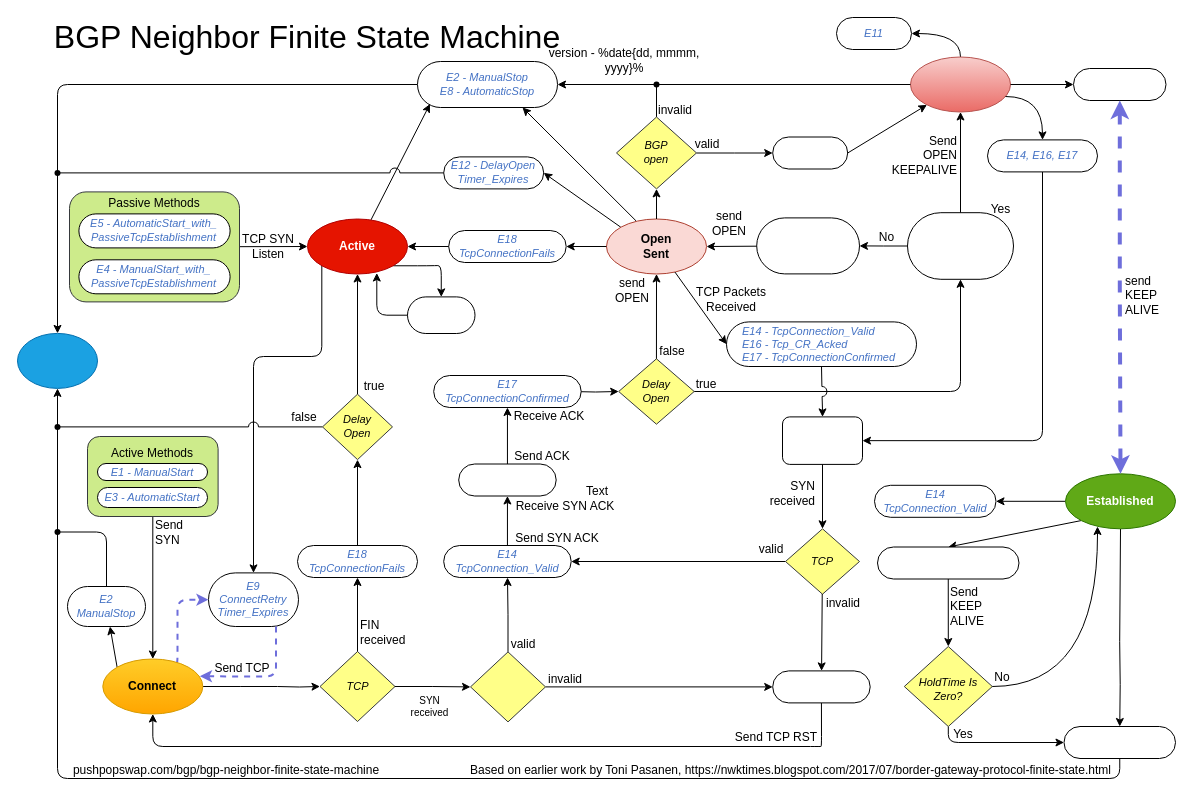
Image size: 1201x803. Some labels were removed from this diagram. Here are the shapes that lost their labels. From the top down, the box of each, then its label:
(910, 56, 1010, 112): Open Confirm
(1072, 68, 1166, 100): E26 KeepAliveMsg
(772, 136, 848, 169): E19 BGPOpen
(756, 217, 860, 274): E12 DelayOpen Timer_Expires
(906, 212, 1014, 279): E20 BGPOpen with DelayOpenTimer Running
(406, 296, 475, 334): E14 or E15
(16, 332, 98, 388): Idle
(782, 416, 862, 464): Track second TCP connection
(458, 463, 556, 496): E16 Tcp_CR_Acked
(876, 546, 1019, 579): E11 KeepaliveTimer_Expires
(470, 651, 546, 722): SYN check
(772, 670, 870, 703): E15 Tcp_CR_Invalid
(1063, 726, 1176, 758): E10 HoldTimer_Expires
